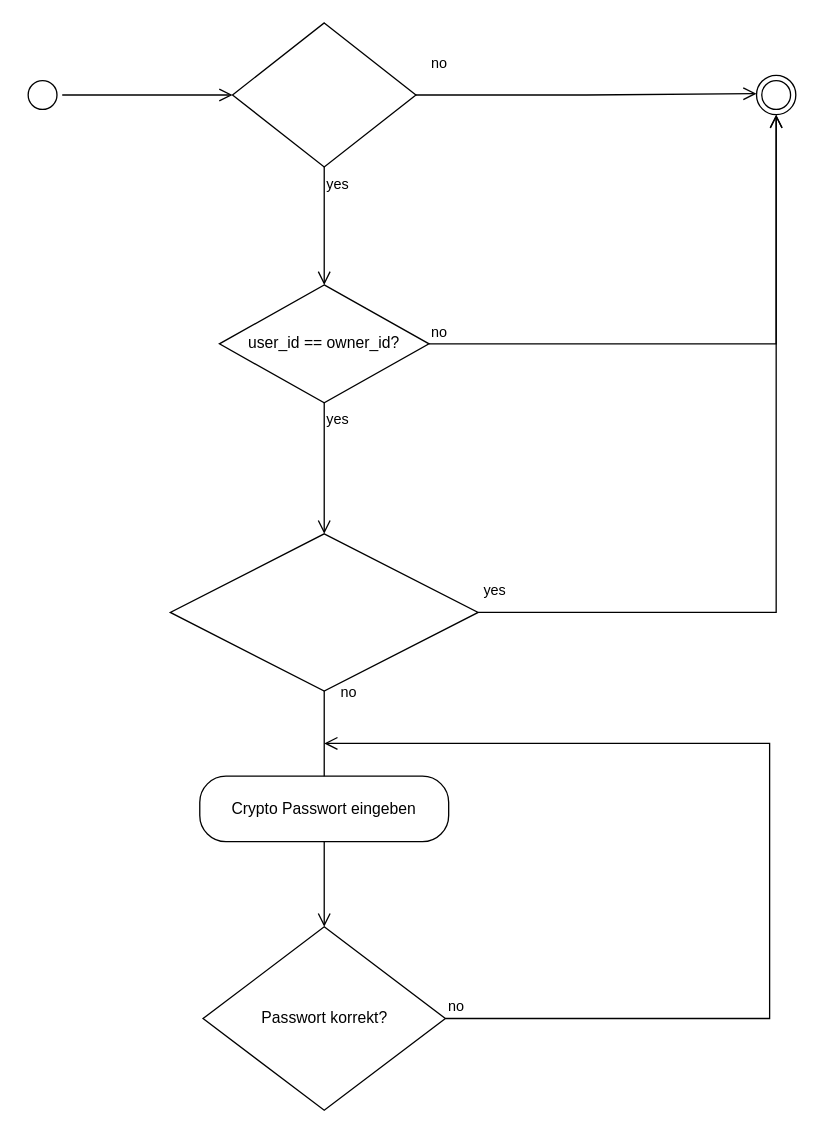
The diagram is 819 pixels wide and 1133 high, and some of its shapes have lost their labels. Each missing label, with the box of its shape:
Dokument bereits geteilt?: (169, 533, 478, 691)
Existiert Empfänger?: (231, 22, 416, 167)
